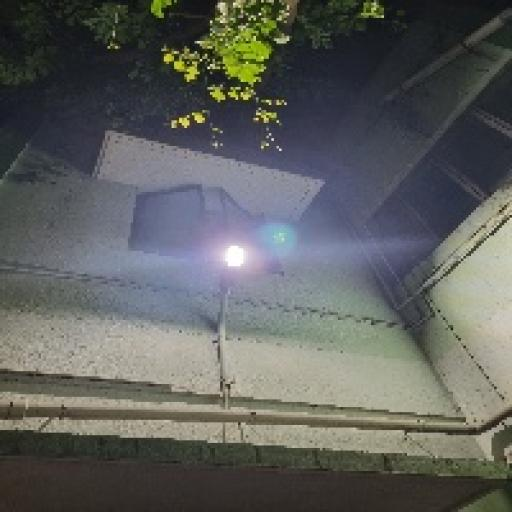Working: (212, 238, 257, 279)
